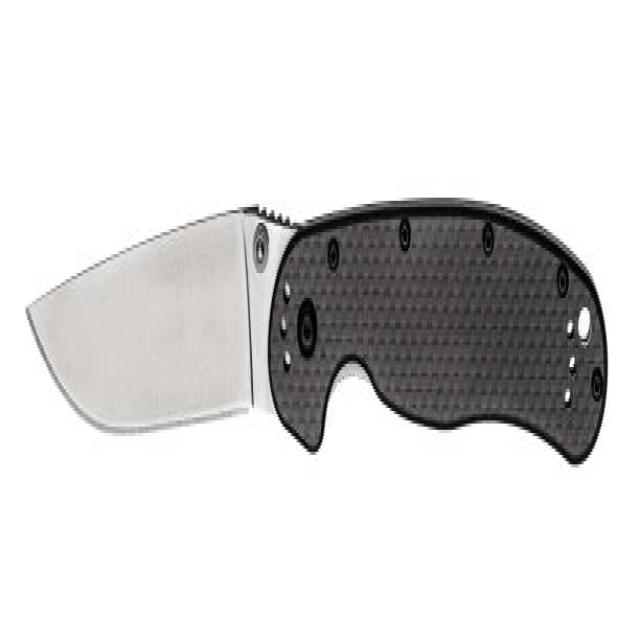knife: (17, 172, 610, 520)
